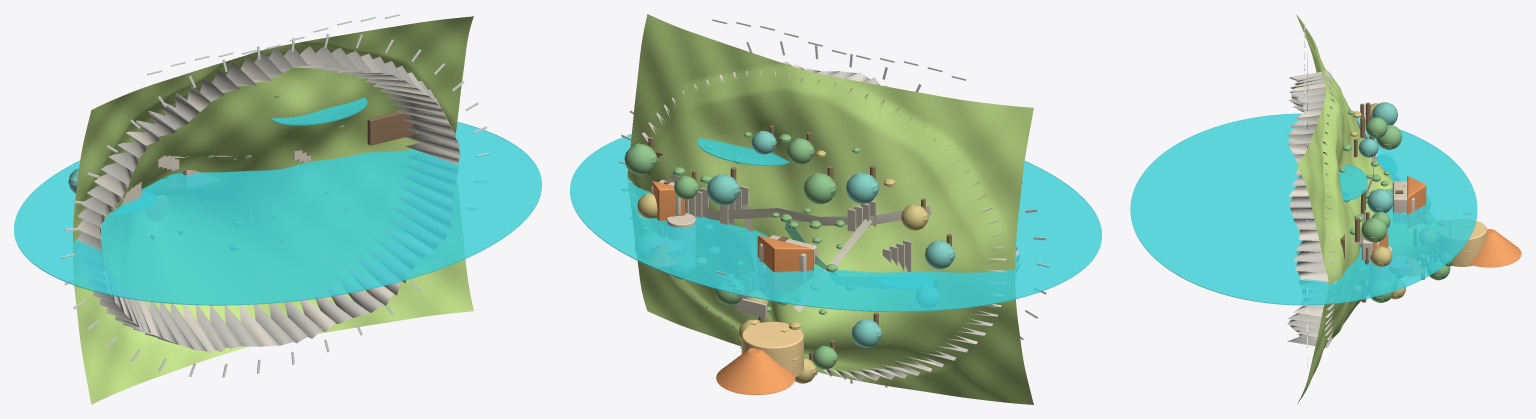
Rendered from high_fidelity_island.glb.
3 renders of one model, left to right at view 1: azimuth 30°, elevation 25°; view 2: azimuth 150°, elevation 25°; view 3: azimuth 270°, elevation 25°, orthographic. The views are drawn at different scales.
Parts seen in each view (by area): view 1: high resolution rounded island grass, single turquoise water disk around island, small red roof dock deck, front right turquoise lagoon, faceted shoreline cliff.057, faceted shoreline cliff.058, faceted shoreline cliff.056, faceted shoreline cliff.055, faceted shoreline cliff.064, faceted shoreline cliff.059, faceted shoreline cliff.063, faceted shoreline cliff.070 (+19 smaller); view 2: high resolution rounded island grass, single turquoise water disk around island, CLICKABLE_PORTAL_main_hill_house red conical roof, CLICKABLE_PORTAL_main_hill_house round cream body, small white red roof house below main terracotta roof, front curved pale path matching reference, front right turquoise lagoon, right side lighthouse tower pale round tower, right dock hut terracotta roof, rounded stylized tree crown.011, rounded stylized tree crown.007, rounded stylized tree crown.019 (+7 smaller); view 3: single turquoise water disk around island, high resolution rounded island grass, CLICKABLE_PORTAL_main_hill_house round cream body, CLICKABLE_PORTAL_main_hill_house red conical roof, front right turquoise lagoon, small white red roof house below main terracotta roof, small white red roof house below main body, rounded stylized tree crown.019, rounded stylized tree crown.011, rounded stylized tree crown.015, rounded stylized tree crown.003, rounded stylized tree crown.007.
Boxes of the visible parts, left/top/right/bottom form: high resolution rounded island grass: left=73, top=16, right=473, bottom=404; single turquoise water disk around island: left=14, top=122, right=541, bottom=305; small red roof dock deck: left=367, top=112, right=415, bottom=145; front right turquoise lagoon: left=271, top=97, right=367, bottom=125; faceted shoreline cliff.057: left=254, top=302, right=294, bottom=345; faceted shoreline cliff.058: left=269, top=300, right=307, bottom=343; faceted shoreline cliff.056: left=239, top=305, right=278, bottom=346; faceted shoreline cliff.055: left=224, top=305, right=261, bottom=346; faceted shoreline cliff.064: left=346, top=266, right=393, bottom=305; faceted shoreline cliff.059: left=284, top=297, right=321, bottom=338; faceted shoreline cliff.063: left=335, top=274, right=383, bottom=312; faceted shoreline cliff.070: left=395, top=209, right=447, bottom=240; high resolution rounded island grass: left=627, top=14, right=1033, bottom=404; single turquoise water disk around island: left=570, top=134, right=1101, bottom=311; CLICKABLE_PORTAL_main_hill_house red conical roof: left=716, top=348, right=795, bottom=395; CLICKABLE_PORTAL_main_hill_house round cream body: left=741, top=322, right=803, bottom=377; small white red roof house below main terracotta roof: left=757, top=236, right=813, bottom=291; front curved pale path matching reference: left=703, top=206, right=931, bottom=225; front right turquoise lagoon: left=697, top=138, right=789, bottom=165; right side lighthouse tower pale round tower: left=666, top=213, right=695, bottom=258; right dock hut terracotta roof: left=651, top=181, right=685, bottom=221; rounded stylized tree crown.011: left=707, top=174, right=738, bottom=205; rounded stylized tree crown.007: left=803, top=173, right=834, bottom=204; rounded stylized tree crown.019: left=624, top=144, right=655, bottom=175; single turquoise water disk around island: left=1130, top=113, right=1477, bottom=305; high resolution rounded island grass: left=1296, top=14, right=1438, bottom=403; CLICKABLE_PORTAL_main_hill_house round cream body: left=1437, top=219, right=1487, bottom=266; CLICKABLE_PORTAL_main_hill_house red conical roof: left=1469, top=229, right=1521, bottom=267; front right turquoise lagoon: left=1339, top=164, right=1367, bottom=201; small white red roof house below main terracotta roof: left=1407, top=176, right=1426, bottom=227; small white red roof house below main body: left=1392, top=181, right=1414, bottom=222; rounded stylized tree crown.019: left=1361, top=217, right=1387, bottom=242; rounded stylized tree crown.011: left=1367, top=189, right=1393, bottom=212; rounded stylized tree crown.015: left=1368, top=278, right=1393, bottom=302; rounded stylized tree crown.003: left=1372, top=102, right=1397, bottom=124; rounded stylized tree crown.007: left=1376, top=124, right=1401, bottom=149.
Bounding box in the file's own units: 6.1 × 4 × 5.27.
